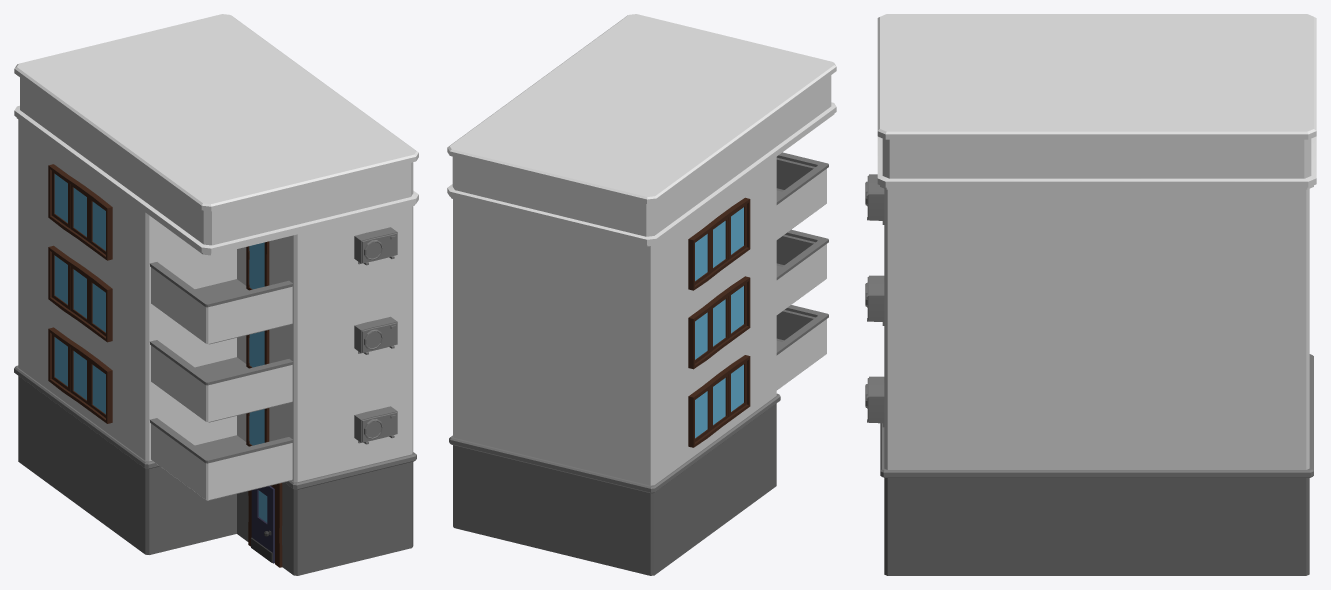
Rendered from SM_apartment_01.fbx.
The picture shows the model from 3 angles, left to right: view 1: azimuth 30°, elevation 25°; view 2: azimuth 150°, elevation 25°; view 3: azimuth 270°, elevation 25°; orthographic projection. The views are drawn at different scales.
Visible parts, largest first — view 1: Box052; view 2: Box052; view 3: Box052.
Boxes of the visible parts, x1=… form: Box052: x1=14, y1=14, x2=418, y2=575; Box052: x1=447, y1=14, x2=836, y2=575; Box052: x1=865, y1=14, x2=1316, y2=575.
Size of the model in its own units: 269 by 462 by 424.
